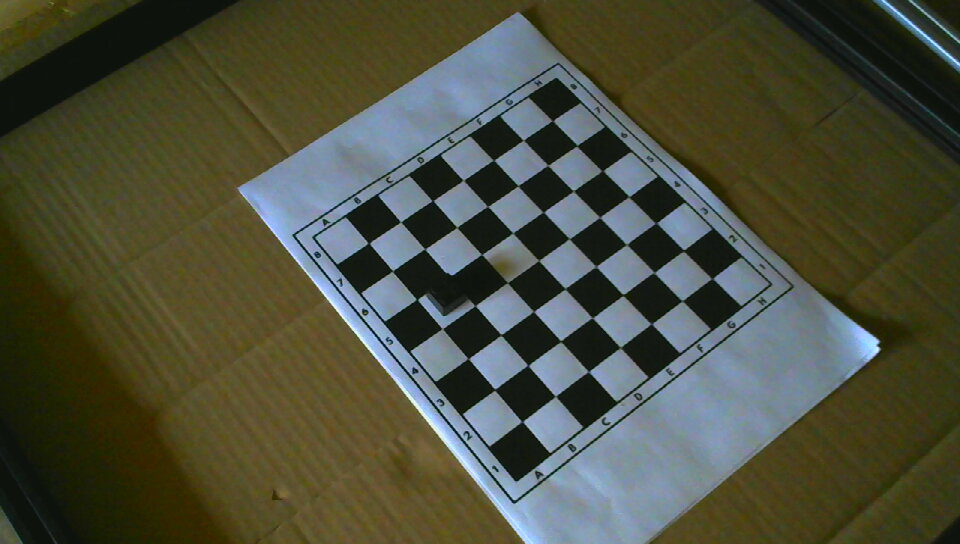bp: (426, 275, 468, 316)
